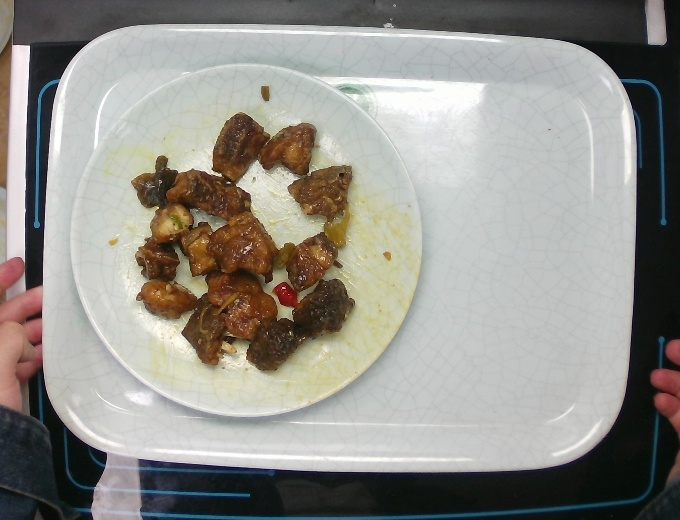JYsf-Da_Yuan_Pan: (63, 59, 429, 421)
